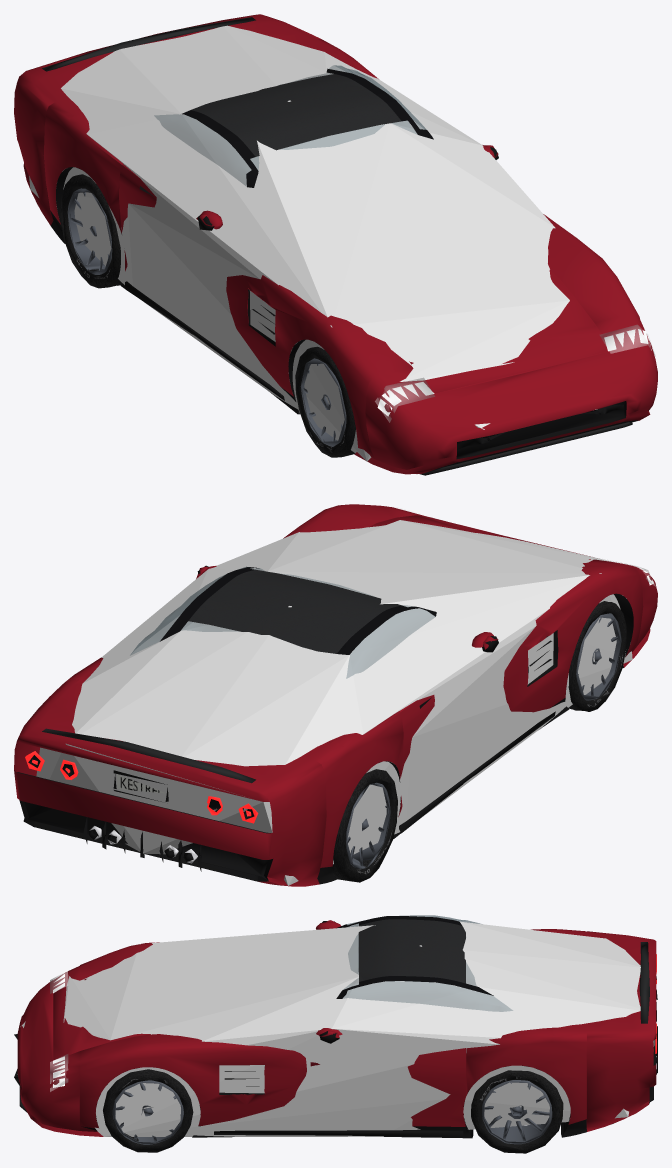
File: kestrel_gtr_lod2.glb
3 renders of one model, top to bottom at view 1: azimuth 30°, elevation 25°; view 2: azimuth 150°, elevation 25°; view 3: azimuth 270°, elevation 25°, orthographic. The views are drawn at different scales.
Parts seen in each view (by area): view 1: col_body, body, glass, trim, wheel_RR, wheel_FR, lights_front, underbody; view 2: col_body, body, wheel_RR, glass, trim, wheel_FR, lights_rear, plate_rear, underbody; view 3: col_body, body, wheel_RL, glass, wheel_FL, trim, lights_front.
Part boxes in pixels (box(x1,y1,x2,y2)): col_body: box(29, 25, 651, 461); body: box(14, 14, 657, 474); glass: box(154, 65, 426, 186); trim: box(42, 17, 632, 475); wheel_RR: box(60, 174, 122, 288); wheel_FR: box(295, 346, 355, 457); lights_front: box(375, 325, 655, 422); underbody: box(38, 167, 638, 472); col_body: box(36, 520, 632, 885); body: box(14, 504, 657, 886); wheel_RR: box(332, 769, 397, 882); glass: box(130, 567, 434, 678); trim: box(42, 565, 555, 871); wheel_FR: box(568, 601, 627, 711); lights_rear: box(25, 751, 258, 823); plate_rear: box(113, 770, 168, 801); underbody: box(274, 593, 633, 885); col_body: box(17, 921, 654, 1136); body: box(14, 916, 656, 1138); wheel_RL: box(471, 1070, 563, 1153); glass: box(343, 915, 512, 1011); wheel_FL: box(103, 1069, 193, 1152); trim: box(19, 920, 657, 1137); lights_front: box(50, 970, 67, 1091).
Bounding box in the file's own units: 2.01 × 1.28 × 4.8.
Materials: 12 (3 with a texture image).
